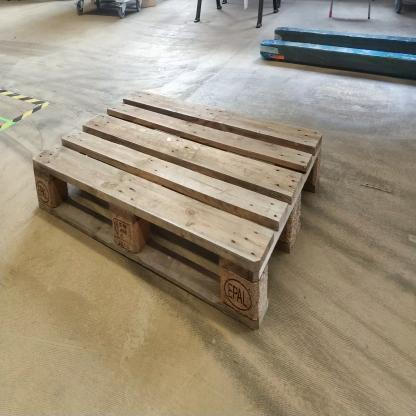BoxFace: (27, 83, 326, 342)
